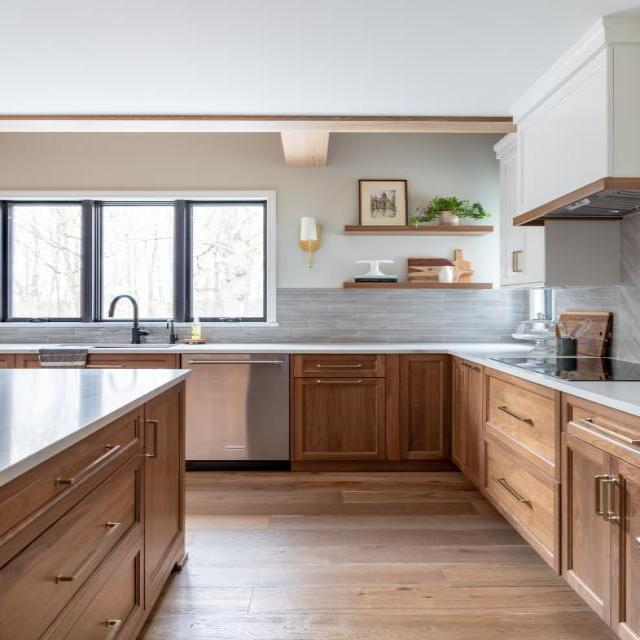dishwasher: (170, 324, 306, 507)
